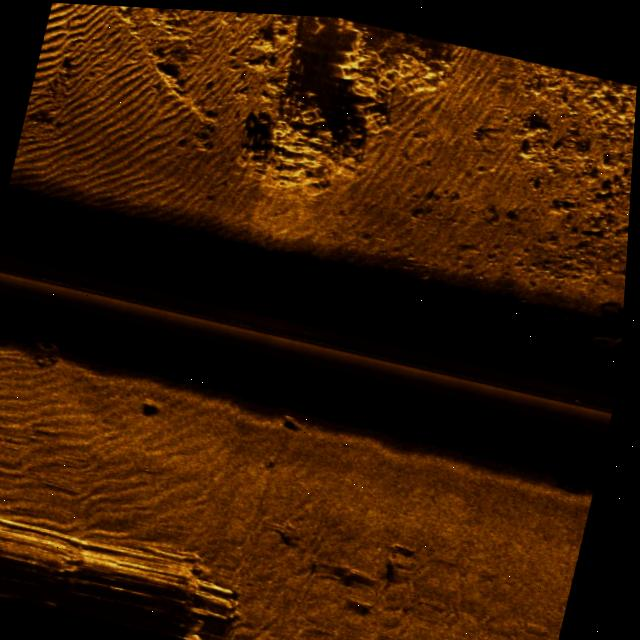artificial reef: (245, 10, 489, 244), (22, 318, 82, 368)
